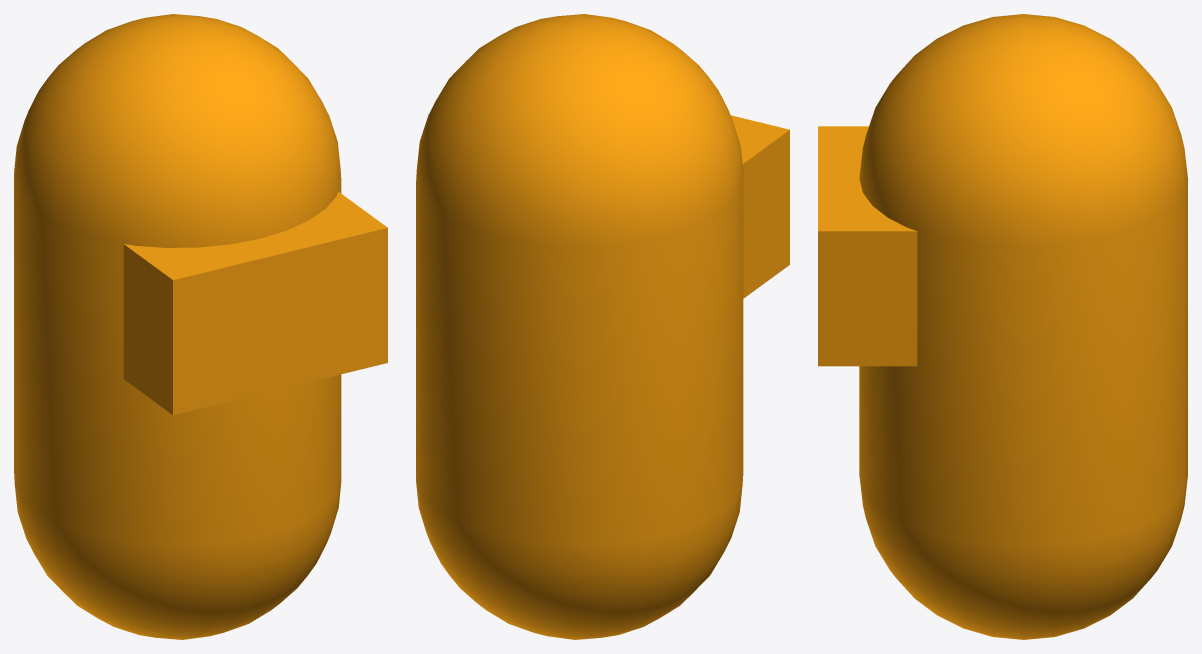
File: Player.fbx
The picture shows the model from 3 angles, left to right: view 1: azimuth 30°, elevation 25°; view 2: azimuth 150°, elevation 25°; view 3: azimuth 270°, elevation 25°; orthographic projection.
Parts seen in each view (by area): view 1: Capsule, Cube; view 2: Capsule, Cube; view 3: Capsule, Cube.
Part boxes in pixels (<box>): Capsule: <box>14,14,341,639</box>; Cube: <box>123,191,387,415</box>; Capsule: <box>416,14,743,639</box>; Cube: <box>731,115,789,298</box>; Capsule: <box>859,14,1187,639</box>; Cube: <box>818,126,917,366</box>.
Size of the model in its own units: 100 by 200 by 113.
